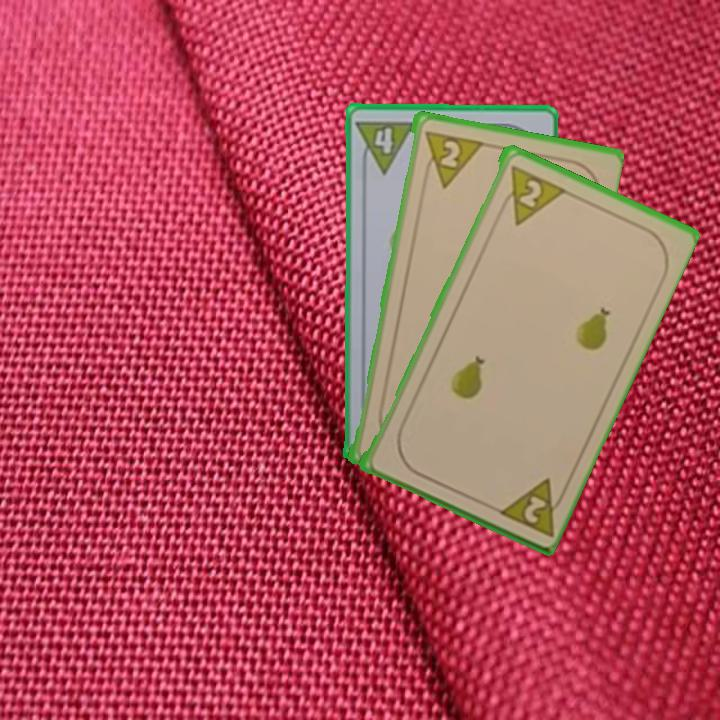2p: (492, 473, 570, 539), (495, 161, 566, 228), (420, 126, 483, 191)
4p: (353, 116, 418, 176)
